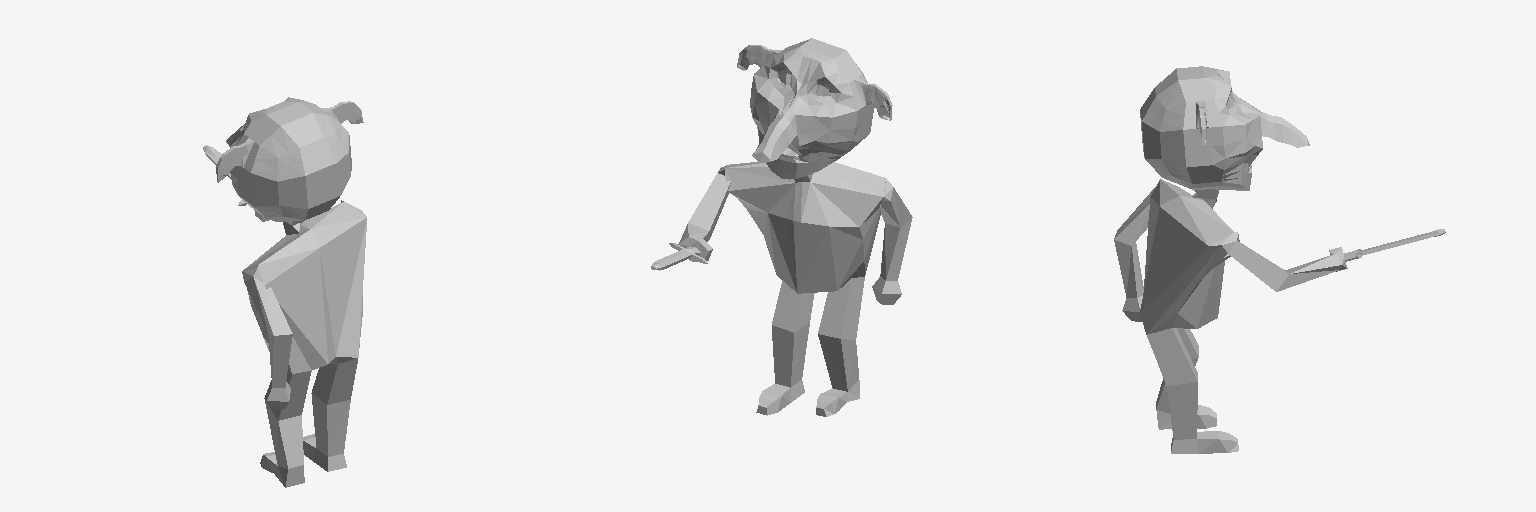
File: goblinv0.9_000111.obj
3 views of the same model, side by side, from view 1: azimuth 30°, elevation 25°; view 2: azimuth 150°, elevation 25°; view 3: azimuth 270°, elevation 25° (orthographic).
Visible parts, largest first — view 1: Cube; view 2: Cube; view 3: Cube.
Part boxes in pixels (left/top/right/bottom): Cube: left=203, top=97, right=366, bottom=487; Cube: left=651, top=38, right=912, bottom=416; Cube: left=1114, top=66, right=1445, bottom=453.
Bounding box in the file's own units: 4.36 × 9.25 × 7.71.